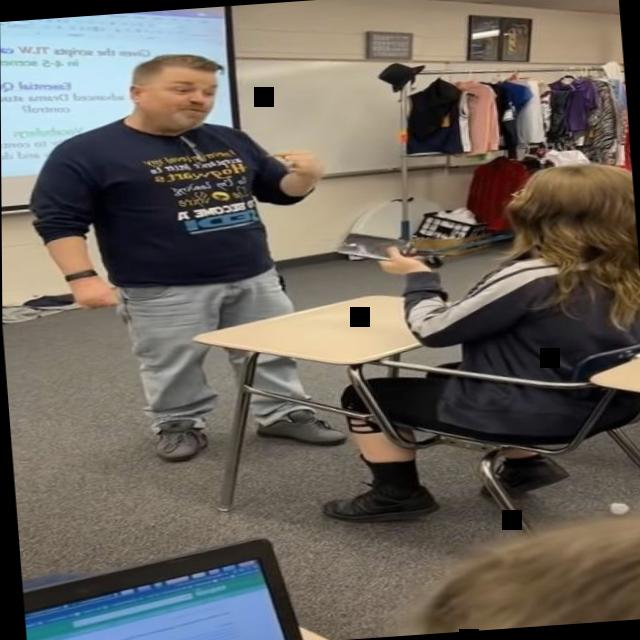NO-Mask: (123, 56, 222, 134)
